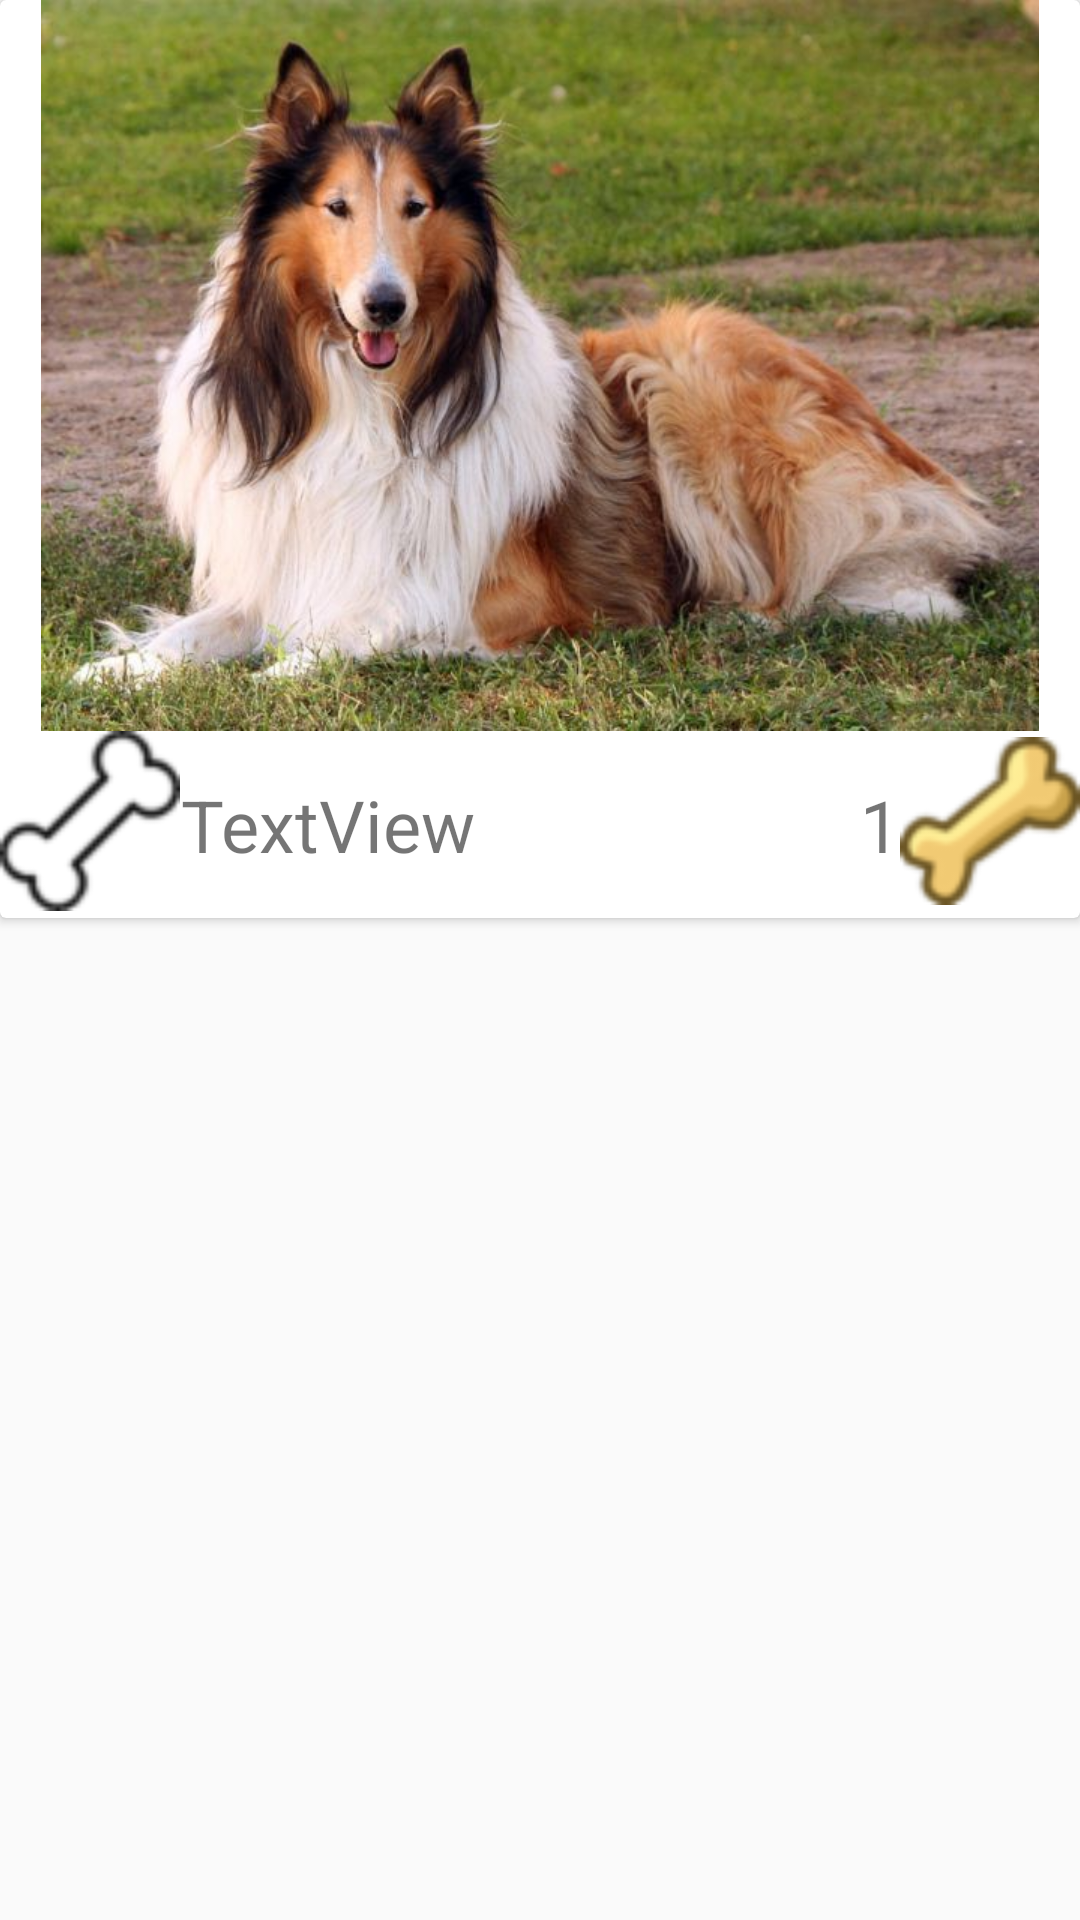

Screen size 1080×1920. Icon name, then its center in pixels as [x,y]:
hueso: [90,821]
huesoamarillo: [990,821]
